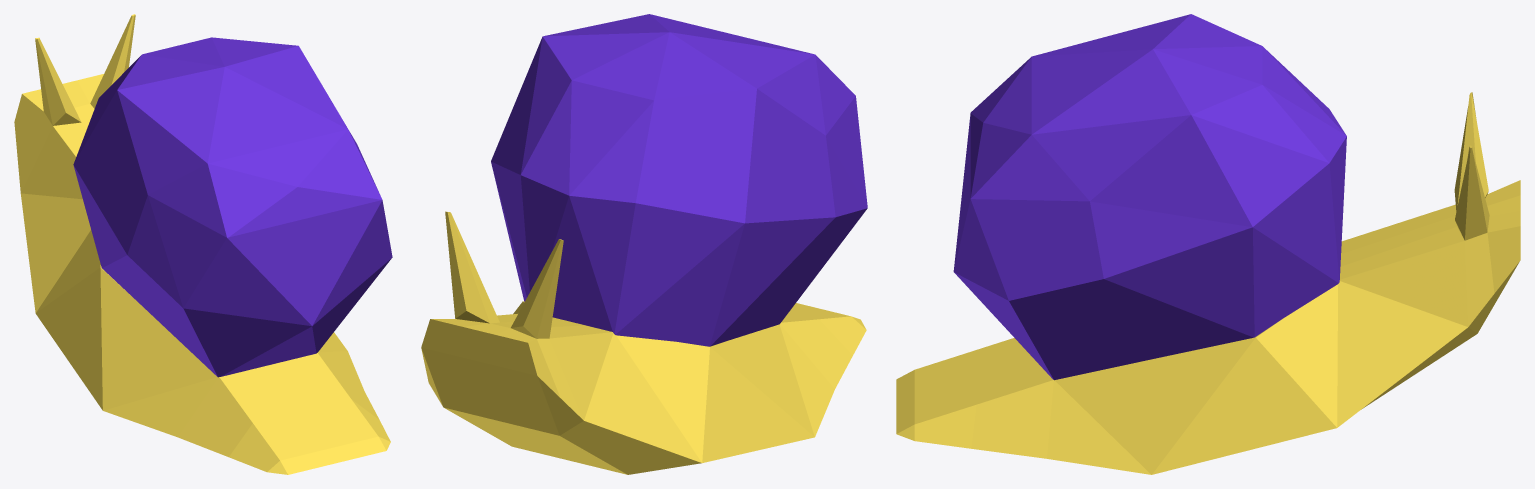
The model's file is snail3.fbx.
3 views of the same model, side by side, from view 1: azimuth 30°, elevation 25°; view 2: azimuth 150°, elevation 25°; view 3: azimuth 270°, elevation 25° (orthographic). The views are drawn at different scales.
Parts seen in each view (by area): view 1: Cube.001, Cube; view 2: Cube.001, Cube; view 3: Cube.001, Cube.
Boxes of the visible parts, x1=… form: Cube.001: x1=73, y1=37, x2=392, y2=377; Cube: x1=14, y1=14, x2=390, y2=474; Cube.001: x1=491, y1=14, x2=867, y2=346; Cube: x1=421, y1=211, x2=866, y2=474; Cube.001: x1=953, y1=14, x2=1346, y2=380; Cube: x1=896, y1=92, x2=1520, y2=474.
Size of the model in its own units: 166 by 203 by 321.
2 materials, 2 textured.
